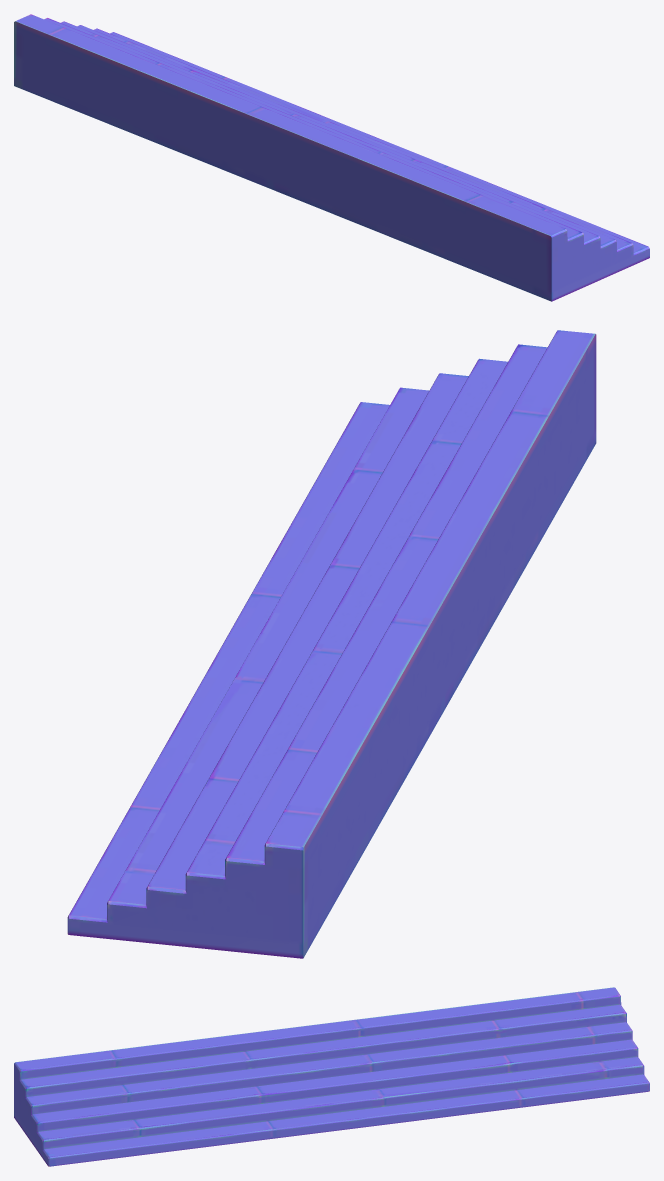
The model's file is NvShen_tizi01_fbx.fbx.
The picture shows the model from 3 angles, top to bottom: view 1: azimuth 30°, elevation 25°; view 2: azimuth 150°, elevation 25°; view 3: azimuth 270°, elevation 25°; orthographic projection. The views are drawn at different scales.
Visible parts, largest first — view 1: NvShen_tizi01_fbx__2_; view 2: NvShen_tizi01_fbx__2_; view 3: NvShen_tizi01_fbx__2_.
Part boxes in pixels (x1,y1,x2,y2): NvShen_tizi01_fbx__2_: [14, 14, 649, 301]; NvShen_tizi01_fbx__2_: [67, 330, 596, 958]; NvShen_tizi01_fbx__2_: [14, 987, 649, 1166].
Bounding box in the file's own units: 2.28 × 0.4713 × 4.92.
